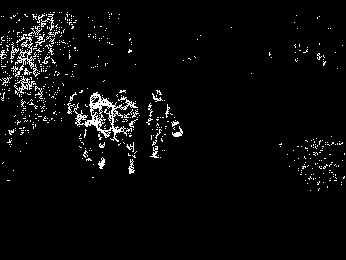person: (145, 87, 182, 164), (63, 86, 91, 173), (89, 90, 114, 181), (118, 89, 141, 186)
